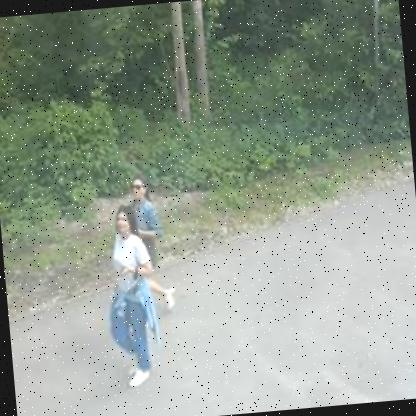person: (97, 200, 165, 392), (124, 167, 186, 319)
